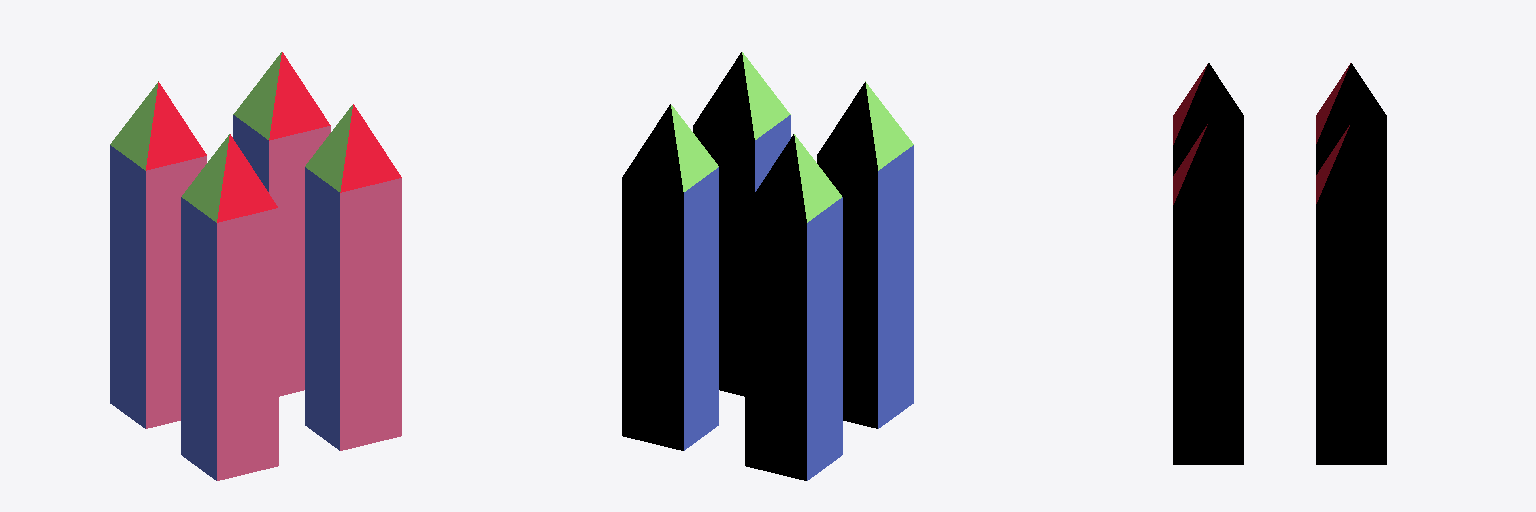
3 views of the same model, side by side, from view 1: azimuth 30°, elevation 25°; view 2: azimuth 150°, elevation 25°; view 3: azimuth 270°, elevation 25° (orthographic).
Parts seen in each view (by area): view 1: Cube; view 2: Cube; view 3: Cube.
Part boxes in pixels (left/top/right/bottom): Cube: left=110, top=52, right=401, bottom=480; Cube: left=622, top=52, right=913, bottom=480; Cube: left=1173, top=63, right=1386, bottom=464.
Size of the model in its own units: 1.12 by 1.9 by 1.12.
1 materials, 1 textured.